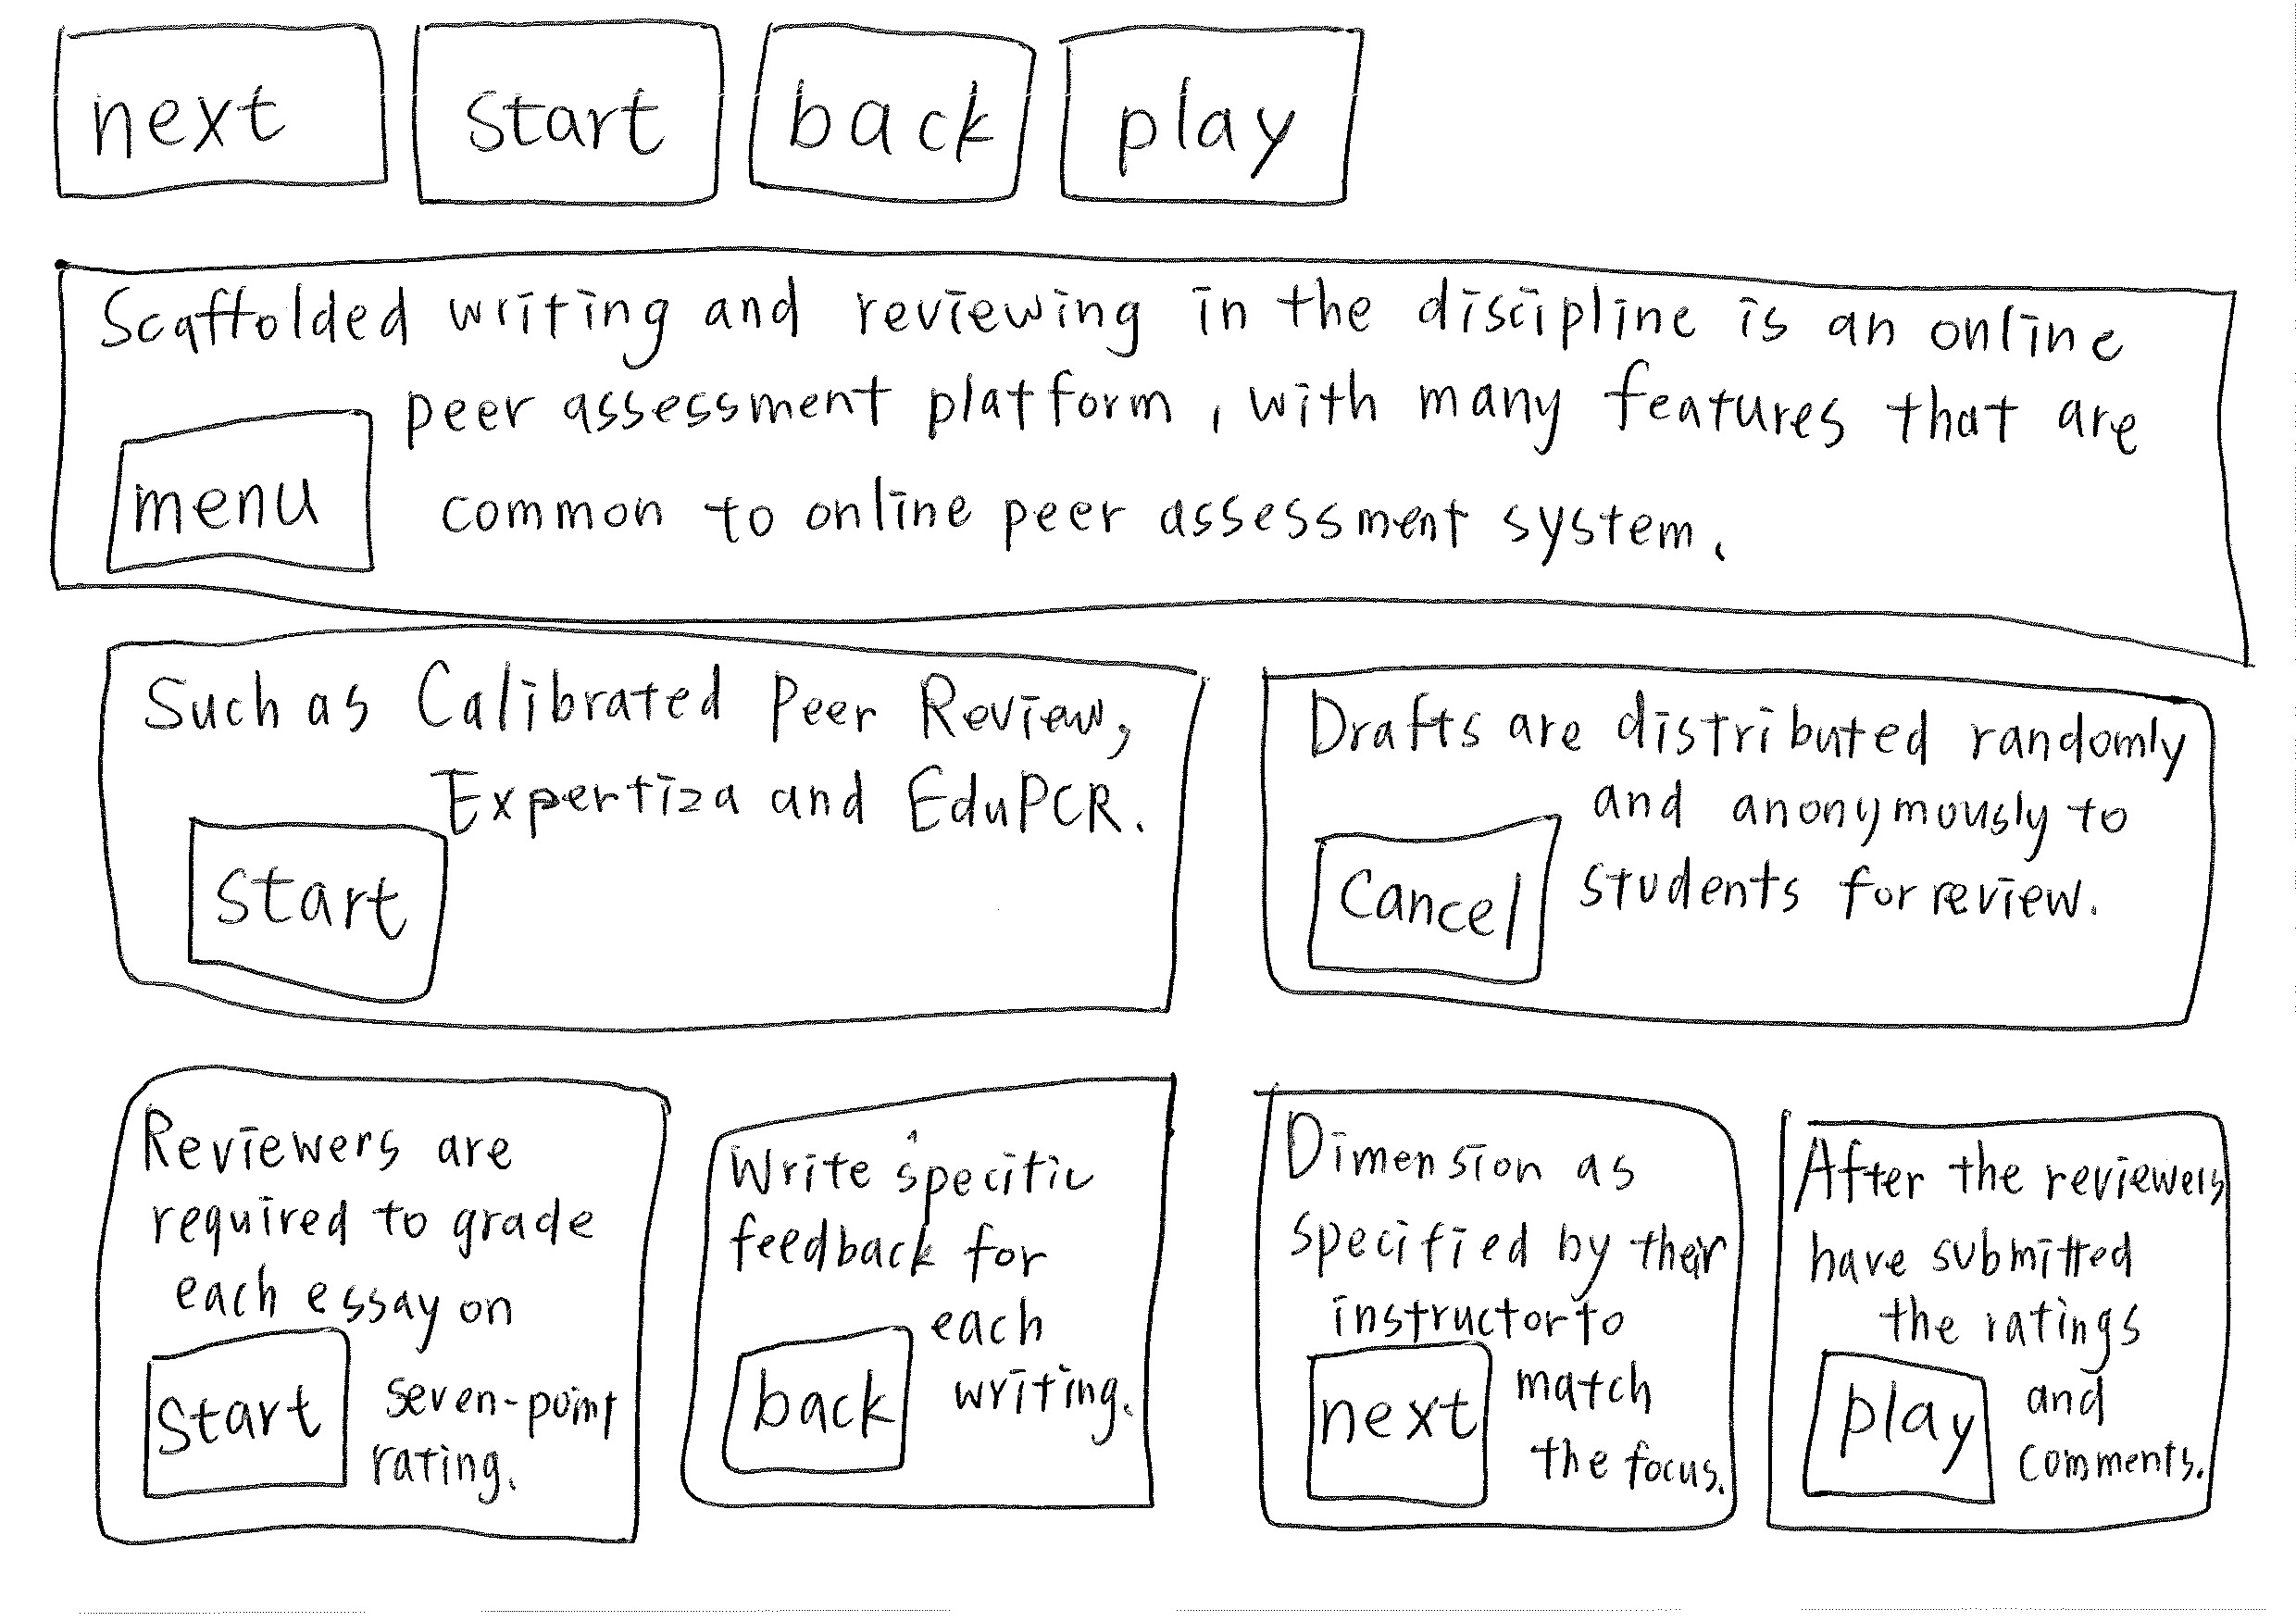back: (746, 4, 1067, 228), (706, 1308, 930, 1490)
cancel: (1276, 790, 1568, 985)
double: (49, 627, 1222, 1050), (1234, 632, 2284, 1062)
menu: (74, 391, 390, 586)
next: (39, 14, 397, 214), (1287, 1336, 1508, 1522)
play: (1041, 14, 1411, 226), (1778, 1345, 2001, 1517)
quadruple: (30, 1050, 672, 1592), (642, 1041, 1211, 1583), (1727, 1048, 2296, 1590), (1204, 1048, 1771, 1590)
single: (19, 233, 2296, 685)
small-title: (100, 283, 2138, 372), (132, 658, 1190, 767), (1295, 688, 2180, 792), (1287, 1102, 1676, 1209), (1797, 1134, 2208, 1232), (137, 1108, 546, 1181), (746, 1136, 1106, 1211)
start: (393, 7, 751, 221), (158, 792, 460, 1013), (111, 1311, 374, 1511)
text: (446, 372, 2159, 569), (1582, 783, 2166, 948), (154, 1192, 606, 1329), (470, 757, 1122, 851), (388, 1288, 644, 1524), (1287, 1204, 1711, 1343), (1805, 1211, 2166, 1345), (2008, 1299, 2199, 1489), (951, 1283, 1134, 1468), (1539, 1304, 1696, 1503), (728, 1213, 1087, 1290)
